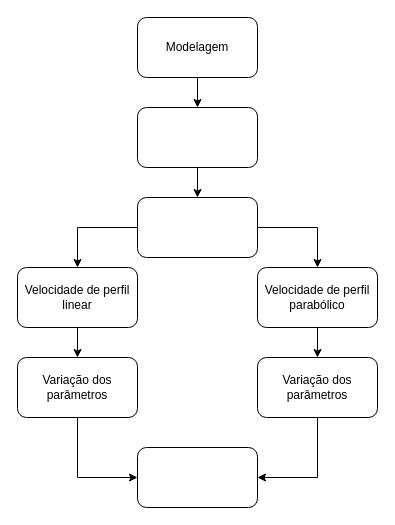
The diagram is 395 pixels wide and 525 high, and some of its shapes have lost their labels. Each missing label, with the centre of its shape:
"Análise de metricas" belongs at point 197,477.
"Implementação do ambiente de simulação" belongs at point 197,227.
"Implementação do modelo" belongs at point 197,137.
